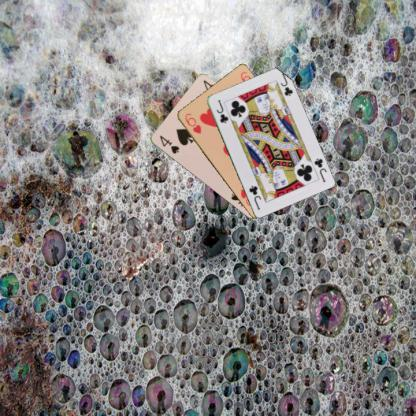4s: (157, 133, 180, 155)
6h: (182, 110, 202, 136)
Jc: (312, 156, 328, 183), (214, 97, 229, 124)
